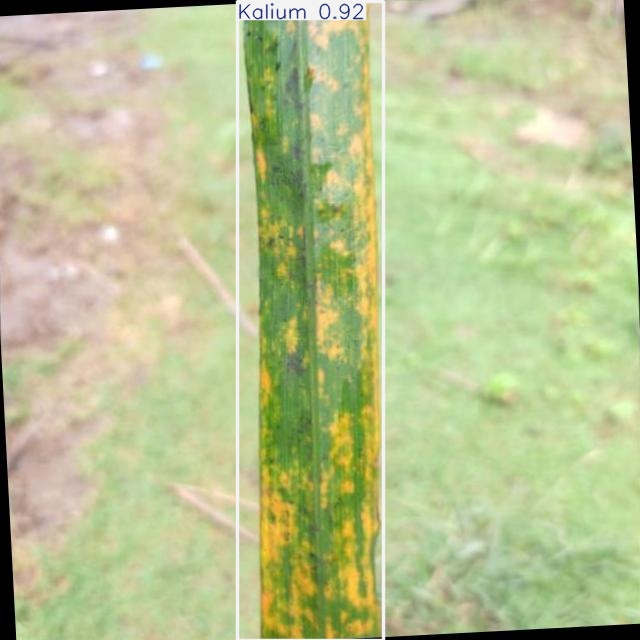Kalium: (238, 1, 383, 640)
